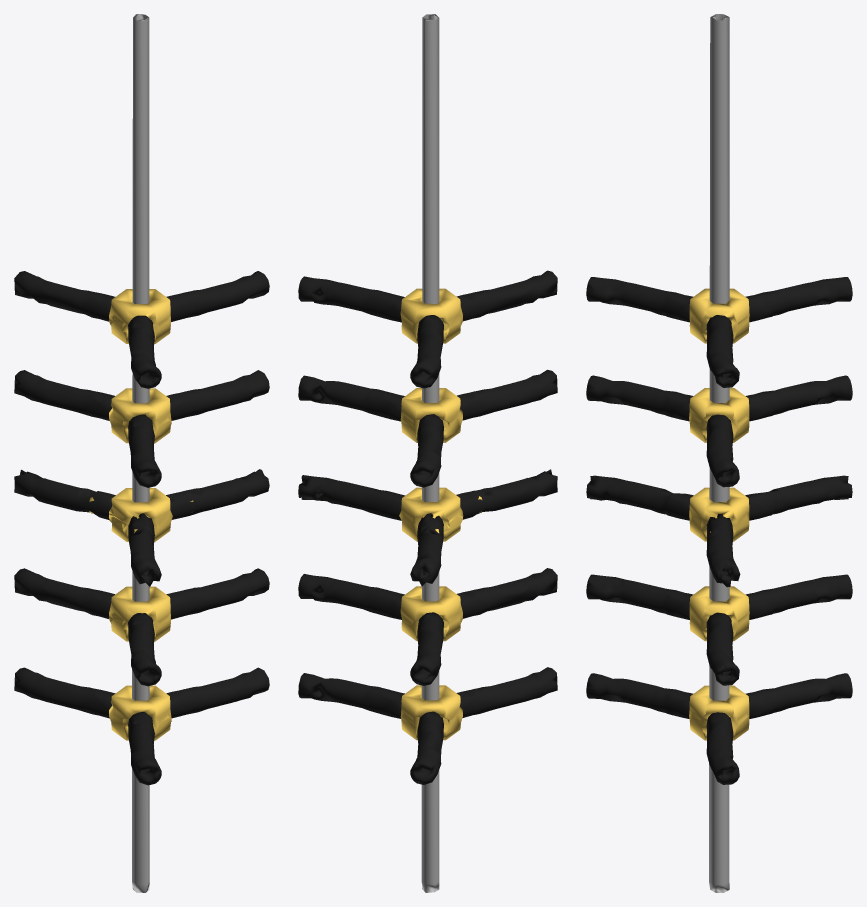
3 views of the same model, side by side, from view 1: azimuth 30°, elevation 25°; view 2: azimuth 150°, elevation 25°; view 3: azimuth 270°, elevation 25° (orthographic).
Size of the model in its own units: 0.0804 by 0.3518 by 0.0972.
